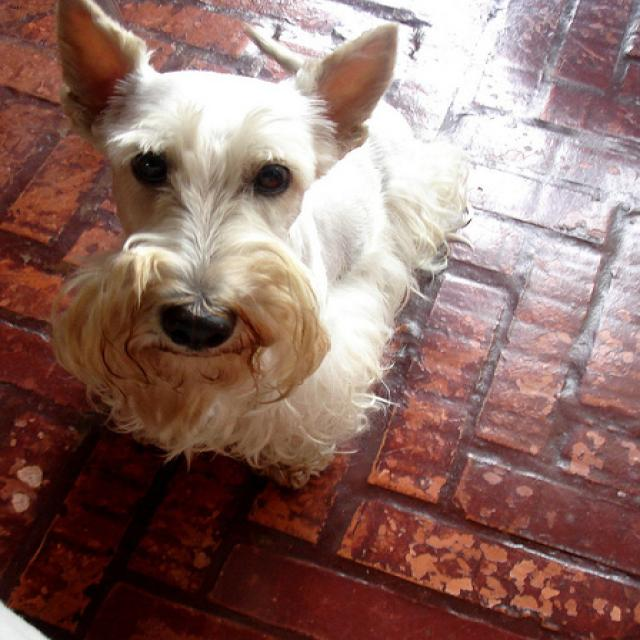dog-scottish_terrier: (30, 1, 480, 502)
